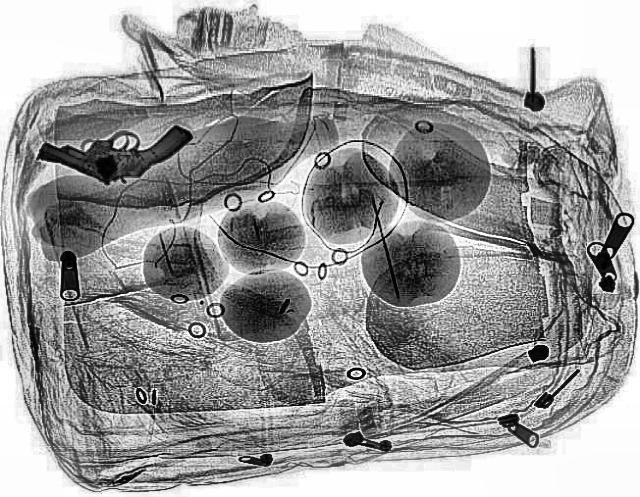Gun: (34, 119, 190, 185)
